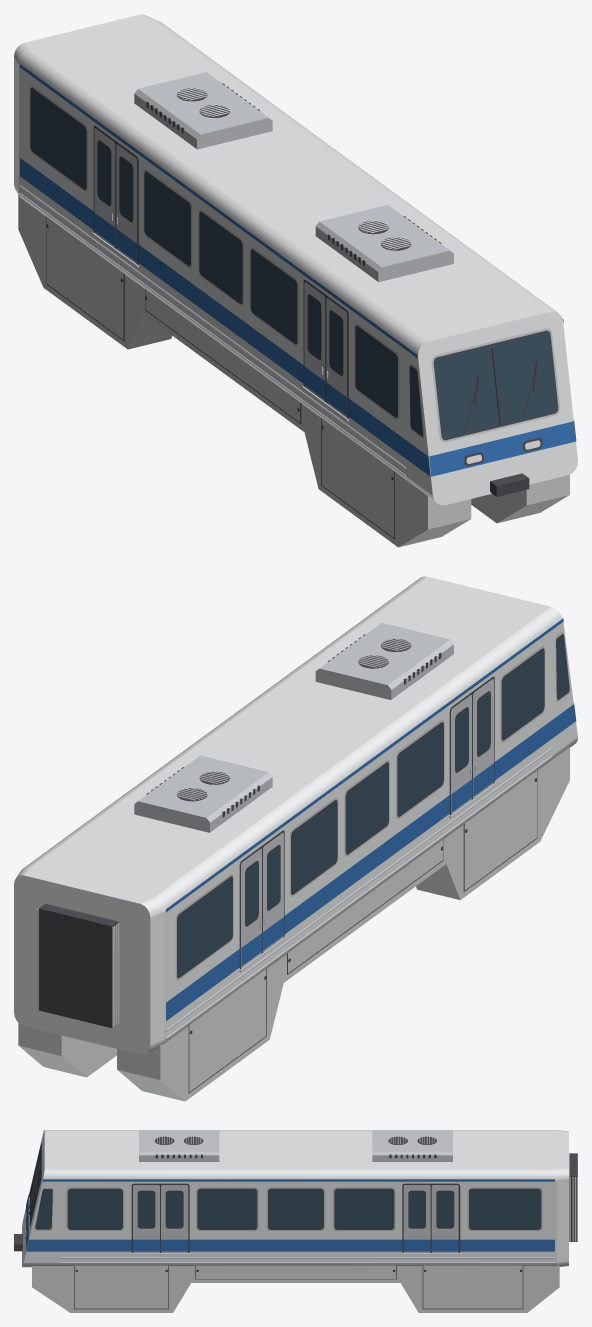
File: 0_close.fbx
3 views of the same model, one above another, from view 1: azimuth 30°, elevation 25°; view 2: azimuth 150°, elevation 25°; view 3: azimuth 270°, elevation 25° (orthographic). The views are drawn at different scales.
Visible parts, largest first — view 1: 308_close; view 2: 308_close; view 3: 308_close.
Part boxes in pixels (x1,y1,x2,y2): 308_close: [14, 14, 577, 547]; 308_close: [14, 576, 577, 1101]; 308_close: [14, 1130, 577, 1312].
Bounding box in the file's own units: 2.76 × 4.13 × 14.
